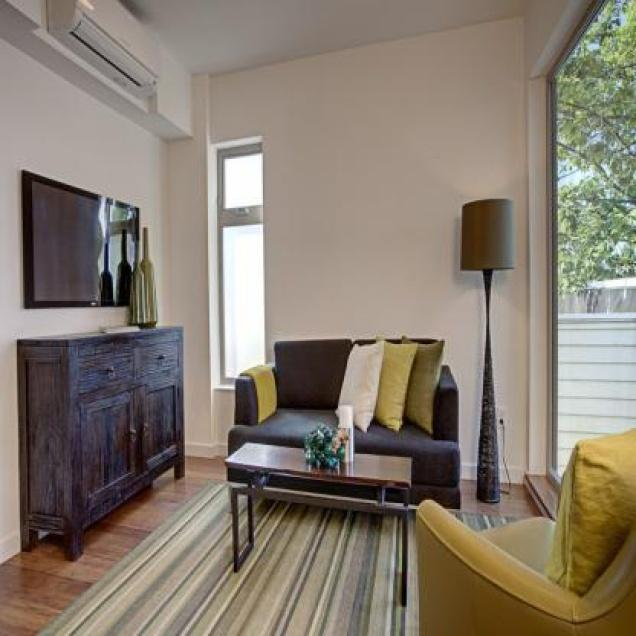AC: (46, 0, 163, 98)
AIO PC-Monitor-TV: (21, 171, 142, 308)
Lemari: (70, 325, 186, 559)
